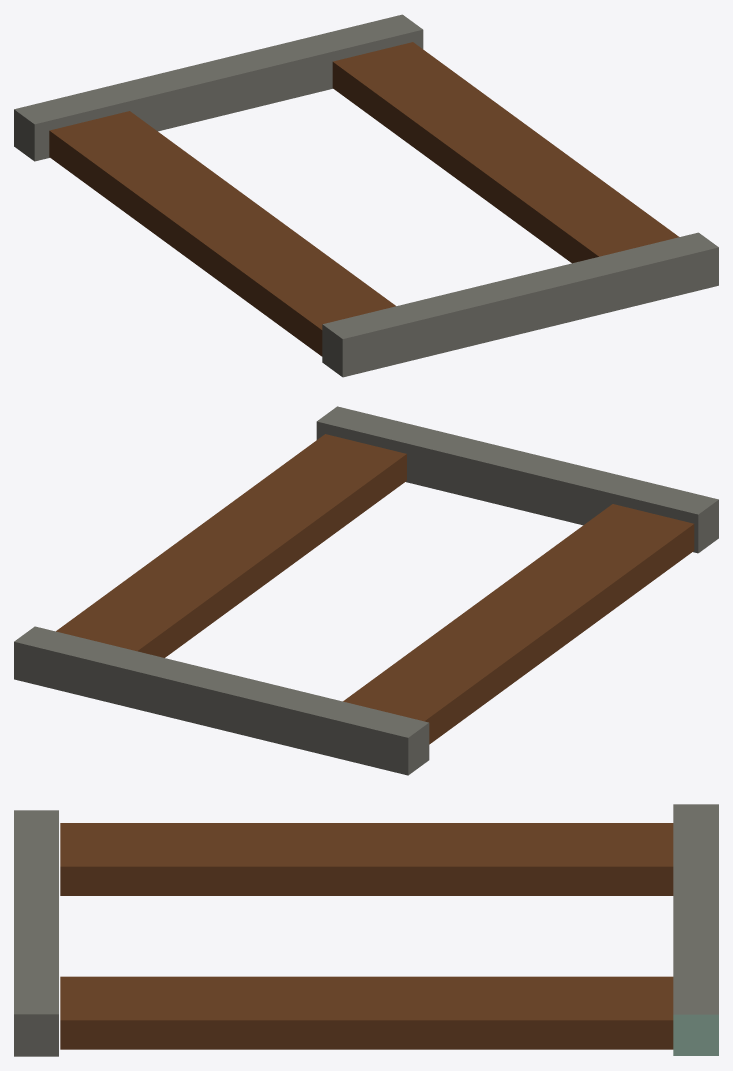
File: Rails1.fbx
3 views of the same model, one above another, from view 1: azimuth 30°, elevation 25°; view 2: azimuth 150°, elevation 25°; view 3: azimuth 270°, elevation 25° (orthographic). The views are drawn at different scales.
Parts seen in each view (by area): view 1: Cube.016; view 2: Cube.016; view 3: Cube.016.
Part boxes in pixels (box(x1,y1,x2,y2)): Cube.016: box(14, 14, 718, 377); Cube.016: box(14, 406, 718, 775); Cube.016: box(14, 804, 718, 1056).
Bounding box in the file's own units: 1.03 × 0.0977 × 1.46.
